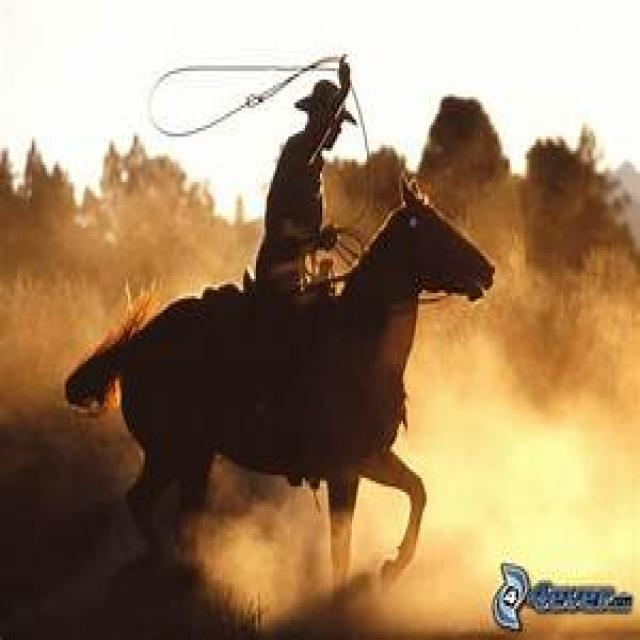horse: (64, 154, 497, 606)
